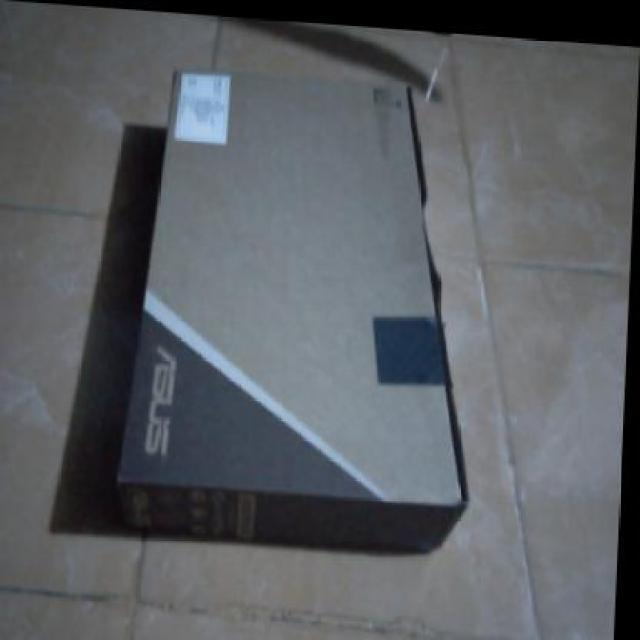box: (122, 71, 480, 543)
